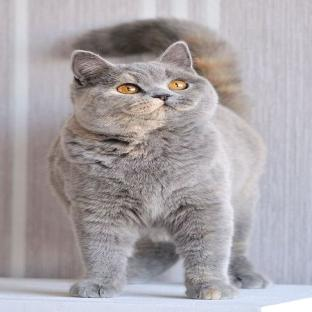Animal: (49, 19, 269, 300)
